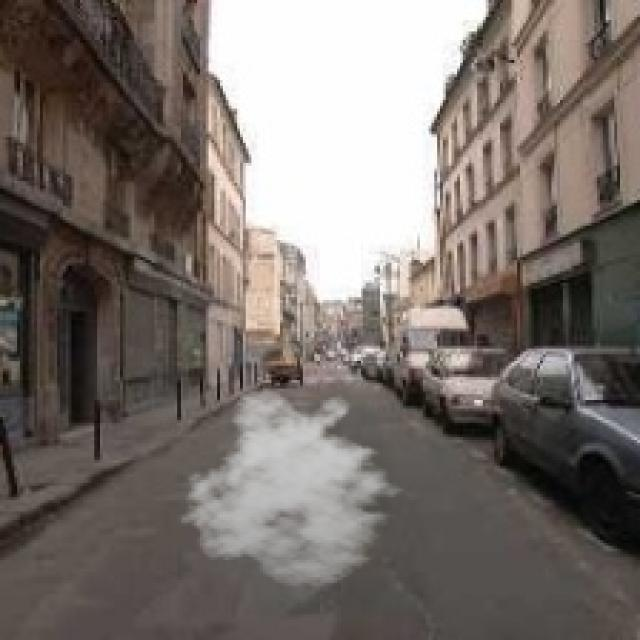Smoke: (177, 388, 417, 588)
